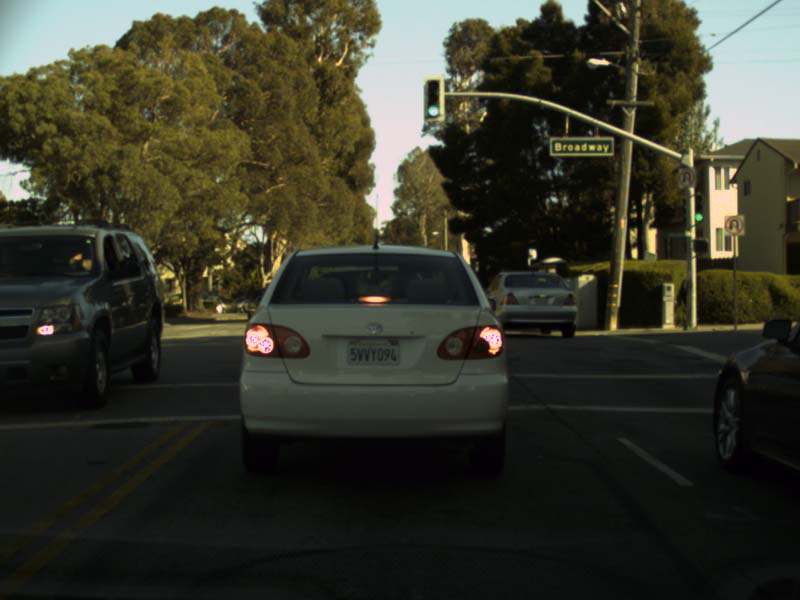Green: (426, 79, 439, 117), (693, 196, 703, 222)
